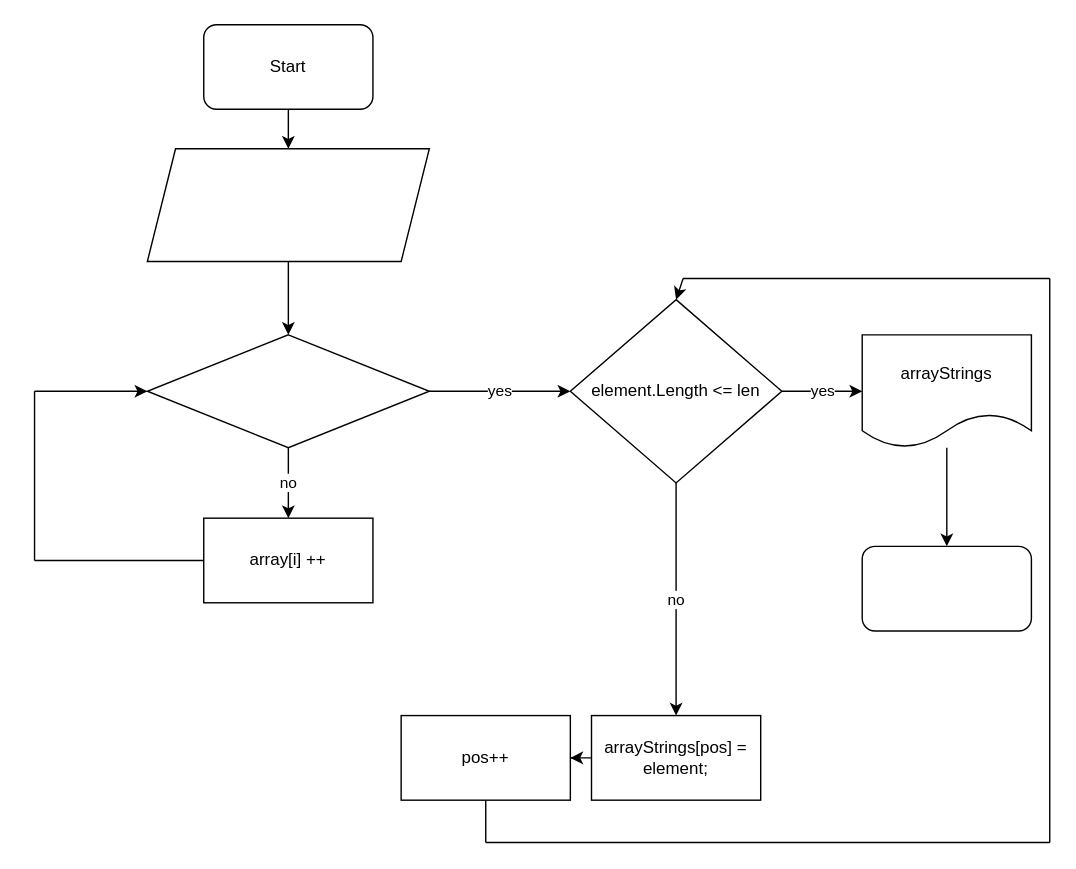
The diagram is 1076 pixels wide and 869 high, and some of its shapes have lost their labels. The centre of each missing label's shape, as x and y in pixels:
"Finish" goes at (x=946, y=588).
"int i = 0; i < array.Length; i++" goes at (x=287, y=390).
"string[] arrayStrings = new string[size]; int len = 3; int pos = 0;" goes at (x=287, y=204).
